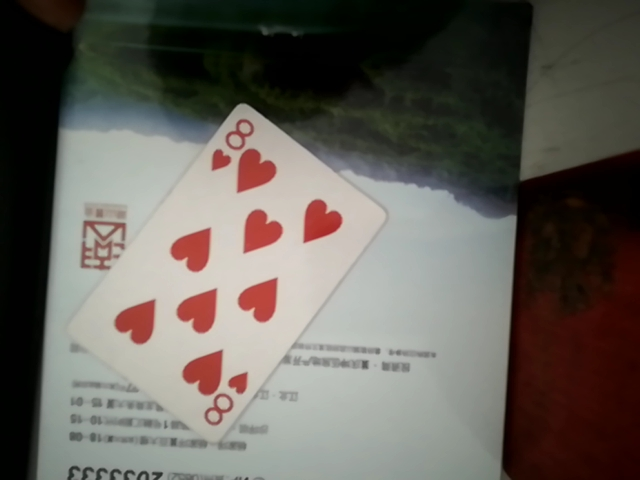hx 8: (62, 102, 378, 432)
